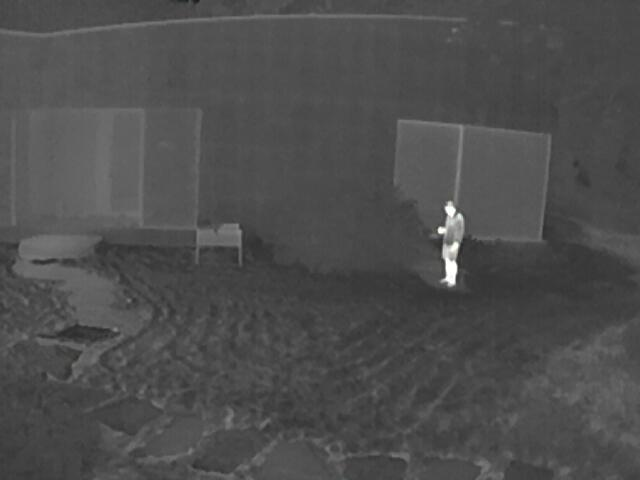person: (436, 200, 464, 288)
